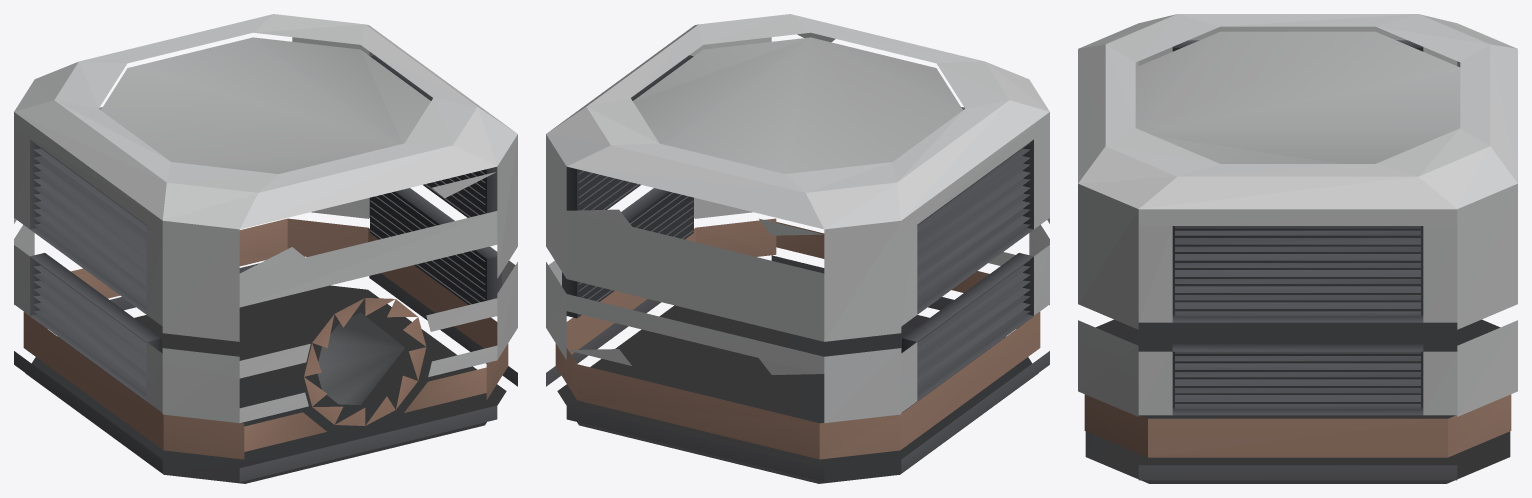
Rendered from reactor.lod.glb.
3 views of the same model, side by side, from view 1: azimuth 30°, elevation 25°; view 2: azimuth 150°, elevation 25°; view 3: azimuth 270°, elevation 25° (orthographic). The views are drawn at different scales.
Parts seen in each view (by area): view 1: reactor; view 2: reactor; view 3: reactor.
Part boxes in pixels (bbox=[...]): reactor: bbox=[14, 14, 517, 483]; reactor: bbox=[546, 14, 1049, 483]; reactor: bbox=[1078, 14, 1517, 483].
Bounding box in the file's own units: 11.2 × 8.4 × 11.2.
